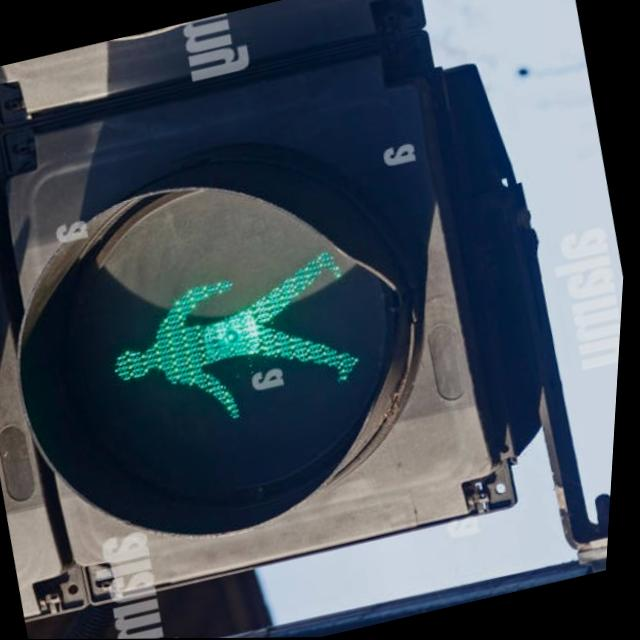green_light: (76, 234, 379, 434)
